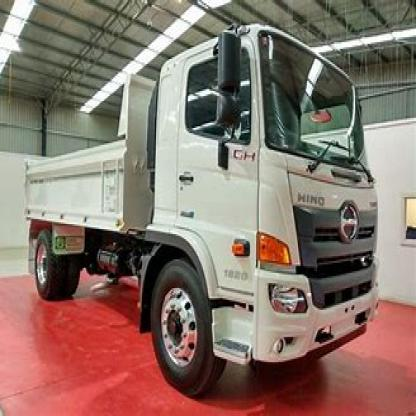dump_truck: (18, 25, 386, 391)
